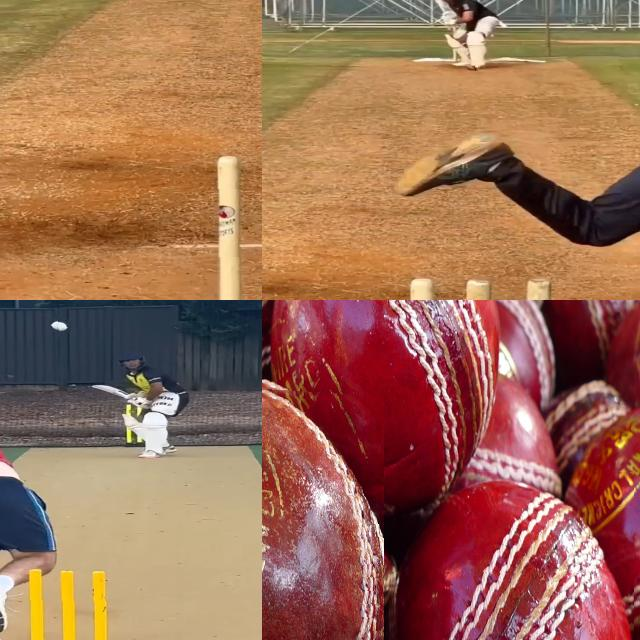Cricket ball: (389, 470, 634, 640), (262, 379, 384, 640), (49, 319, 72, 332), (466, 65, 478, 71)
Stumps: (17, 565, 126, 640), (215, 155, 262, 300)
